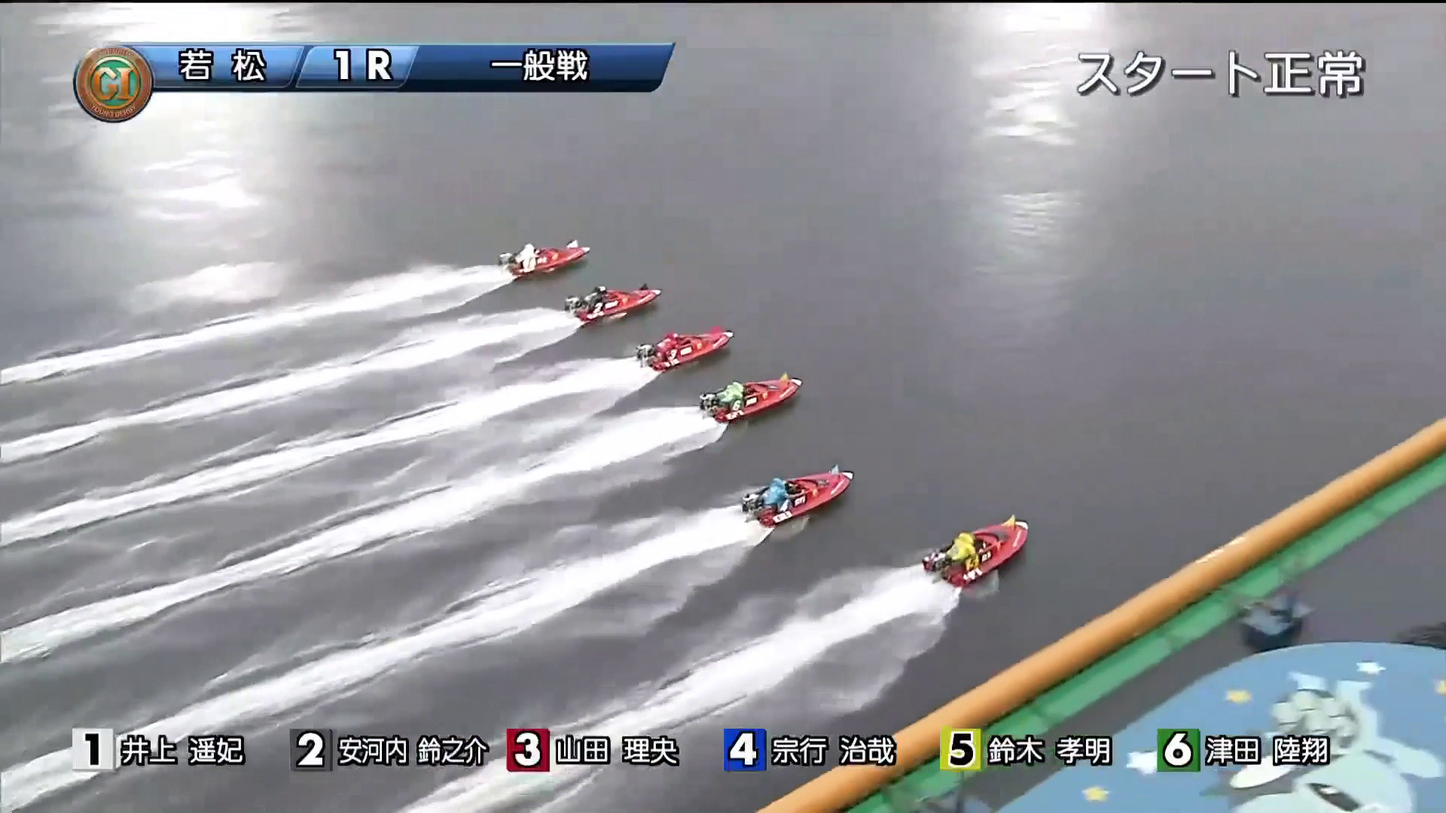１号艇: (497, 242, 573, 281)
２号艇: (559, 283, 648, 321)
３号艇: (626, 326, 717, 367)
４号艇: (692, 386, 797, 429)
５号艇: (743, 470, 863, 525)
６号艇: (914, 525, 1014, 582)
